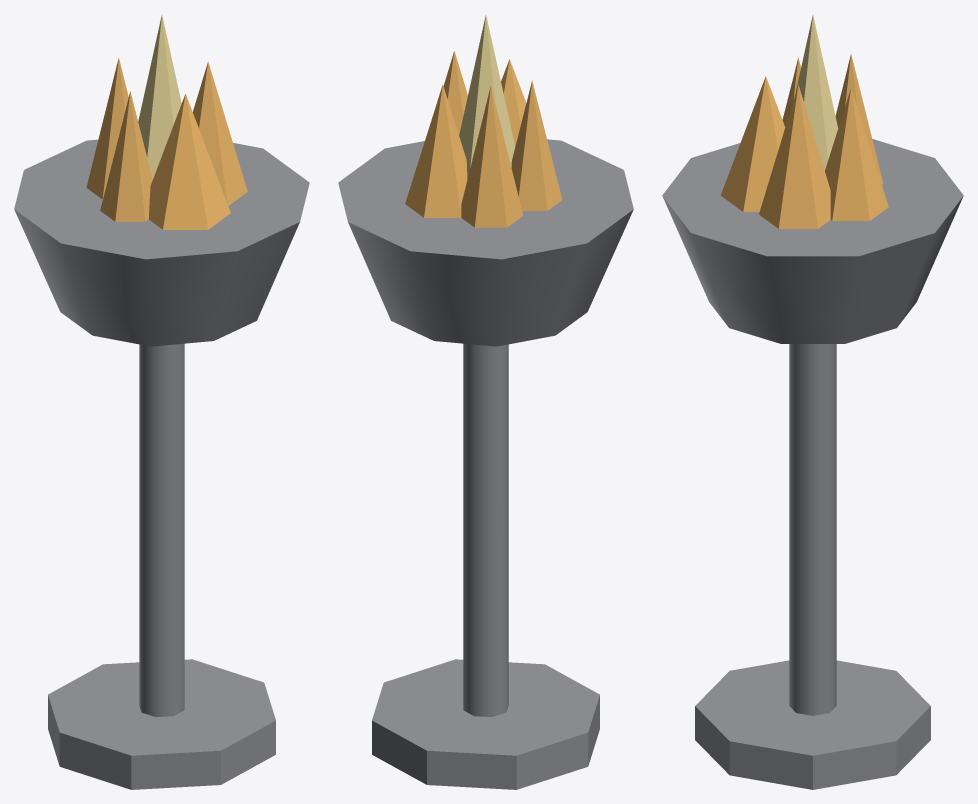
File: hd_brazier.glb
3 views of the same model, side by side, from view 1: azimuth 30°, elevation 25°; view 2: azimuth 150°, elevation 25°; view 3: azimuth 270°, elevation 25° (orthographic).
Visible parts, largest first — view 1: hd_brazier; view 2: hd_brazier; view 3: hd_brazier.
Part boxes in pixels (x1,y1,x2,y2): hd_brazier: (14,15,309,789); hd_brazier: (338,15,633,789); hd_brazier: (662,15,963,789).
Size of the model in its own units: 0.6087 by 1.7 by 0.64.
